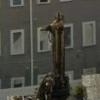Statue: (34, 8, 89, 100)
